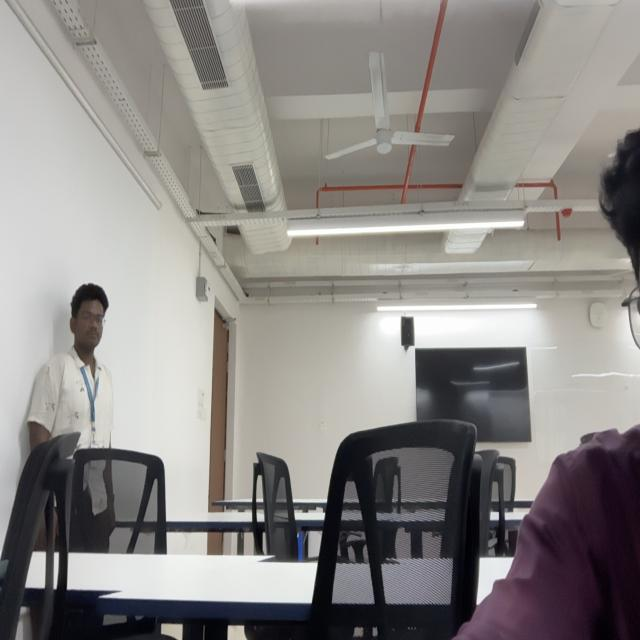sai: (70, 282, 108, 352)
